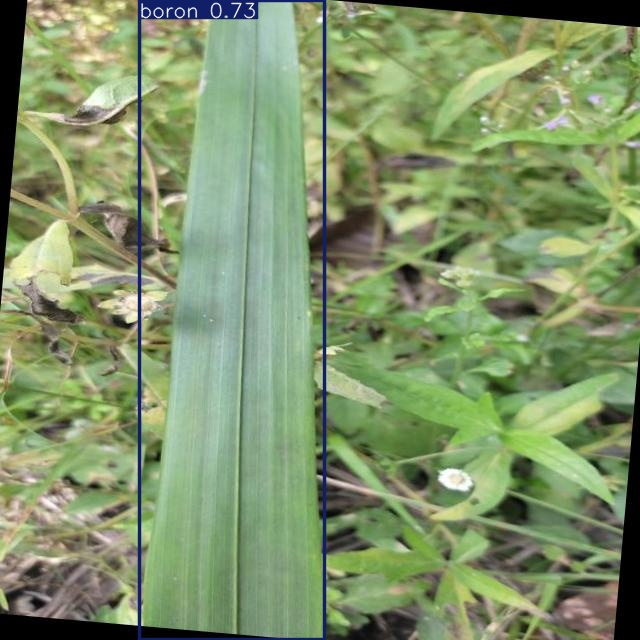nitrogen: (140, 0, 325, 639)
